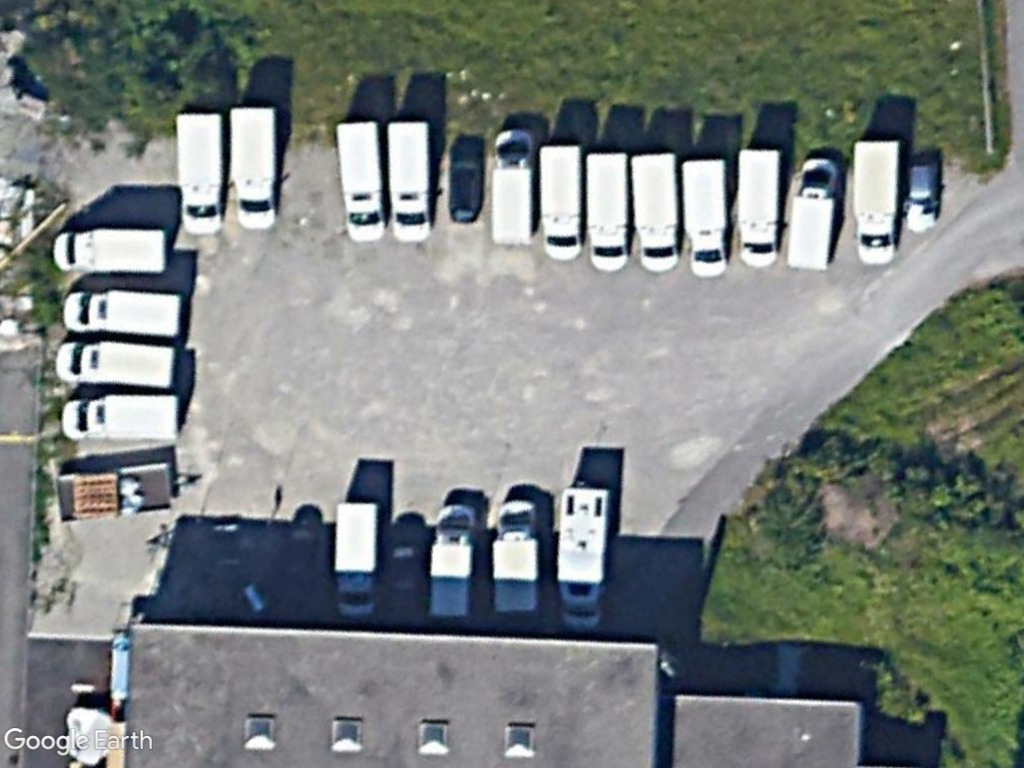truck: (847, 132, 905, 269), (330, 117, 390, 246), (224, 102, 283, 233), (627, 145, 683, 275), (173, 108, 228, 239), (488, 493, 544, 618), (732, 143, 786, 272), (382, 117, 436, 245), (58, 392, 184, 446), (679, 152, 732, 280), (425, 496, 478, 623), (782, 154, 838, 274), (582, 146, 633, 276), (60, 286, 186, 338), (535, 139, 587, 263), (52, 338, 178, 389), (331, 497, 383, 620), (488, 125, 538, 250), (52, 224, 169, 274)
